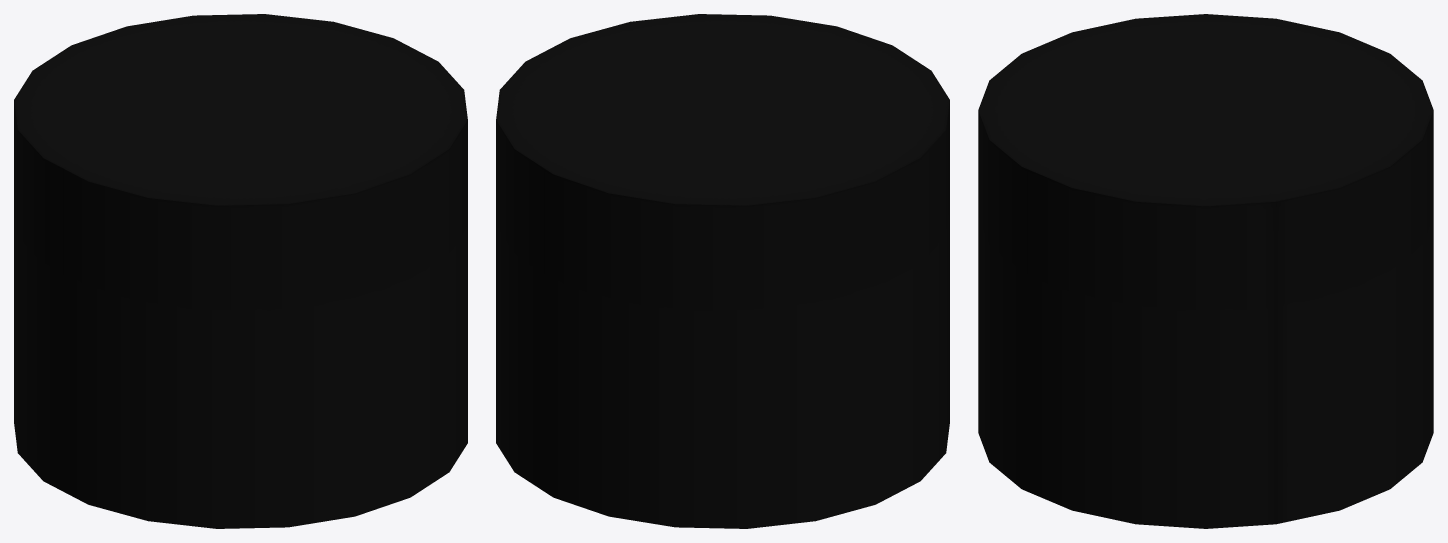
File: Room_Main.obj
3 views of the same model, side by side, from view 1: azimuth 30°, elevation 25°; view 2: azimuth 150°, elevation 25°; view 3: azimuth 270°, elevation 25° (orthographic).
Visible parts, largest first — view 1: Main_Cylinder; view 2: Main_Cylinder; view 3: Main_Cylinder.
Boxes of the visible parts, x1,y1,x2,y2 form: Main_Cylinder: [14, 14, 467, 528]; Main_Cylinder: [496, 14, 949, 528]; Main_Cylinder: [978, 14, 1433, 528].
Bounding box in the file's own units: 256 × 200 × 256.
Materials: 1 (1 with a texture image).
